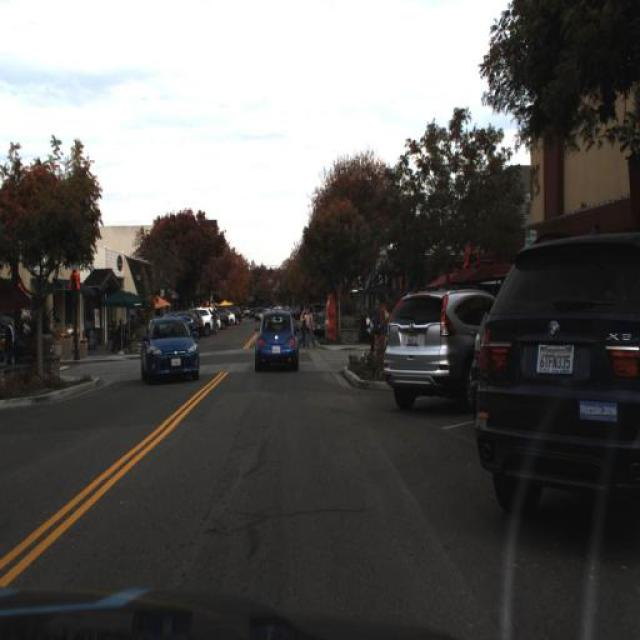car: (470, 226, 640, 530), (379, 282, 475, 419), (135, 313, 203, 388), (252, 300, 302, 380)
trafficLight: (2, 319, 16, 363), (296, 307, 302, 347), (212, 305, 220, 333), (308, 307, 314, 343)
